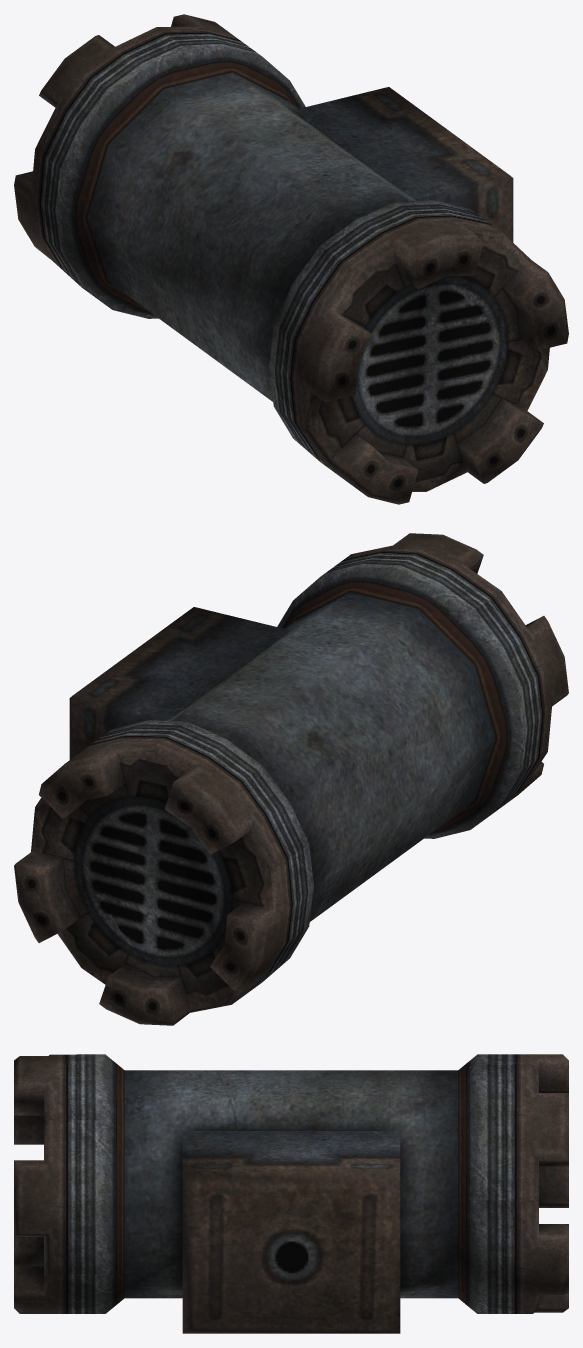
Rendered from tech_pipe_brown_valve.dae.
3 views of the same model, one above another, from view 1: azimuth 30°, elevation 25°; view 2: azimuth 150°, elevation 25°; view 3: azimuth 270°, elevation 25° (orthographic). The views are drawn at different scales.
Parts seen in each view (by area): view 1: valve_pipe; view 2: valve_pipe; view 3: valve_pipe.
Part boxes in pixels (x1=…): valve_pipe: x1=14, y1=14, x2=568, y2=504; valve_pipe: x1=14, y1=533, x2=568, y2=1025; valve_pipe: x1=14, y1=1054, x2=568, y2=1333.
Size of the model in its own units: 0.5787 by 0.5035 by 1.06.
1 material, 1 textured.
